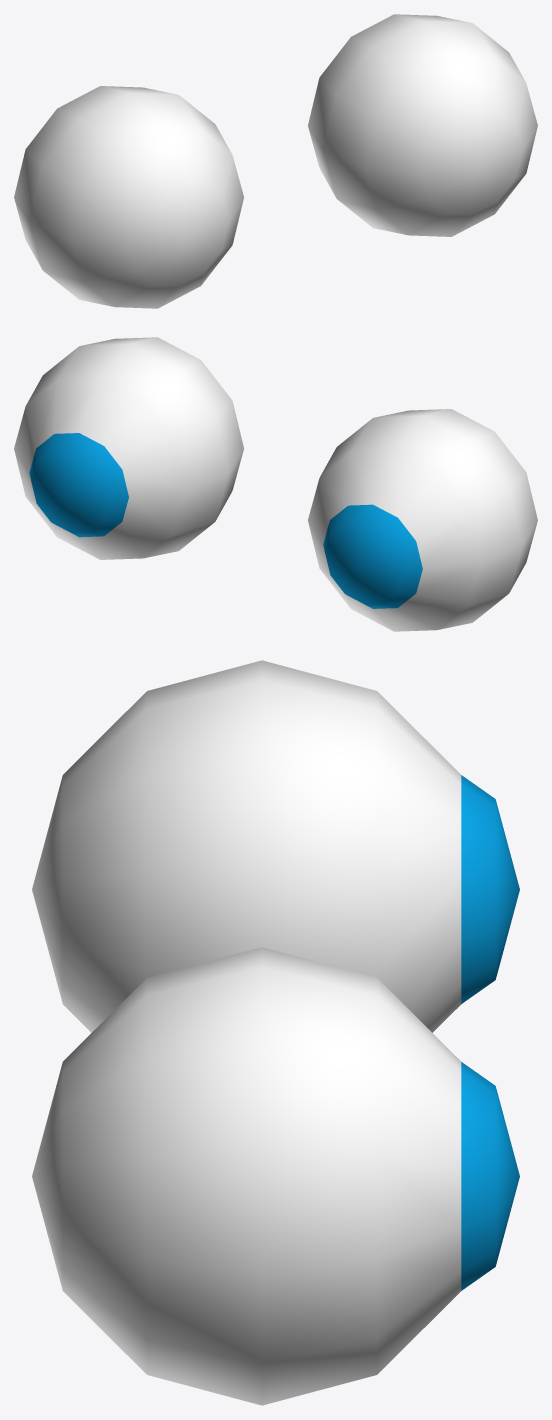
The model's file is eyes.FBX.
3 views of the same model, one above another, from view 1: azimuth 30°, elevation 25°; view 2: azimuth 150°, elevation 25°; view 3: azimuth 270°, elevation 25° (orthographic). The views are drawn at different scales.
Visible parts, largest first — view 1: eyes; view 2: eyes; view 3: eyes.
Part boxes in pixels (box(x1,y1,x2,y2)): eyes: box(14, 14, 537, 308); eyes: box(14, 337, 537, 631); eyes: box(32, 660, 519, 1405).
Size of the model in its own units: 66.08 by 26.71 by 28.32.
